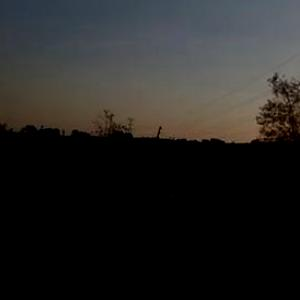follow: (113, 142, 201, 299)
